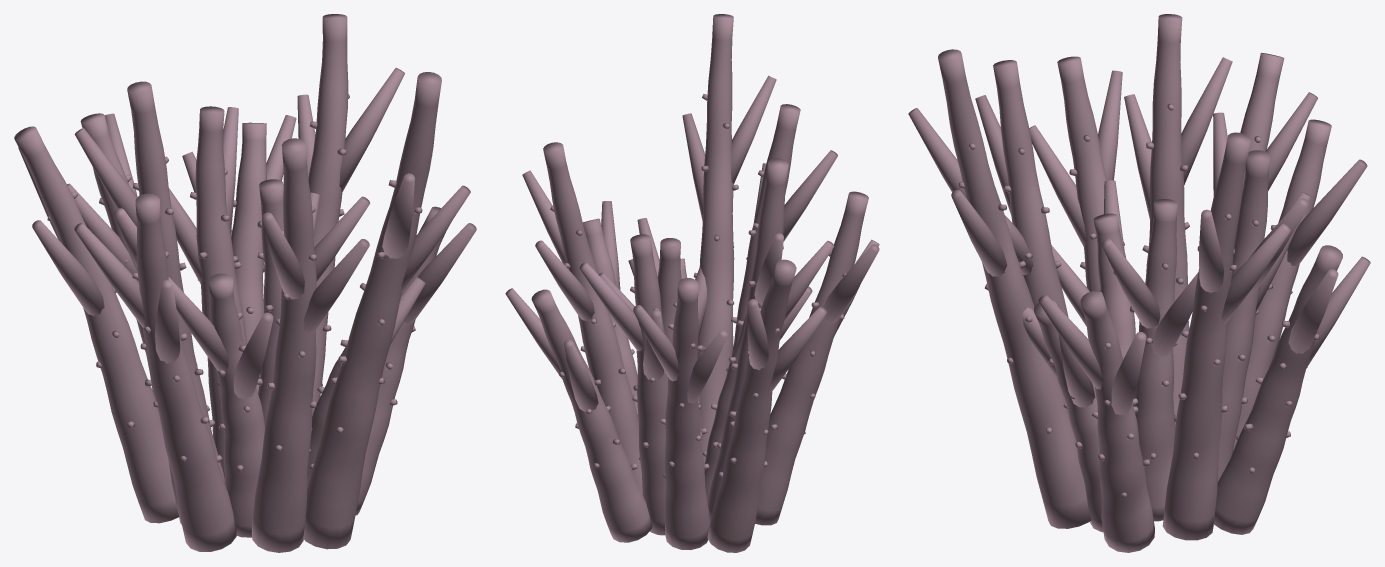
File: stylo-desktop.glb
3 views of the same model, side by side, from view 1: azimuth 30°, elevation 25°; view 2: azimuth 150°, elevation 25°; view 3: azimuth 270°, elevation 25° (orthographic). The views are drawn at different scales.
Visible parts, largest first — view 1: branch, lateral-branch, radial-corallite; view 2: branch, lateral-branch, radial-corallite; view 3: branch, lateral-branch, radial-corallite.
Boxes of the visible parts, bbox=[...] form: branch: bbox=[14, 14, 451, 552]; lateral-branch: bbox=[18, 68, 476, 399]; radial-corallite: bbox=[47, 94, 432, 471]; branch: bbox=[531, 14, 868, 552]; lateral-branch: bbox=[505, 75, 879, 411]; radial-corallite: bbox=[550, 94, 846, 477]; branch: bbox=[938, 14, 1342, 552]; lateral-branch: bbox=[908, 57, 1370, 415]; radial-corallite: bbox=[958, 103, 1319, 497].
Bounding box in the file's own units: 0.4732 × 0.5877 × 0.5017.
